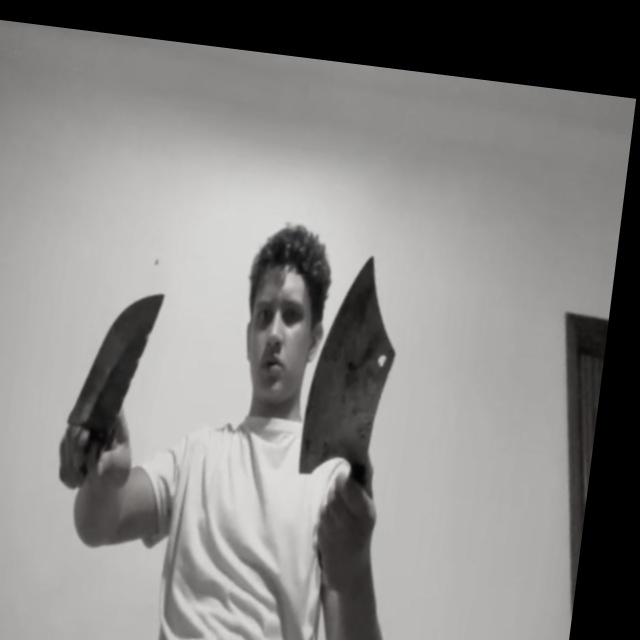Sharp-Object: (296, 245, 410, 482), (67, 281, 166, 434)
